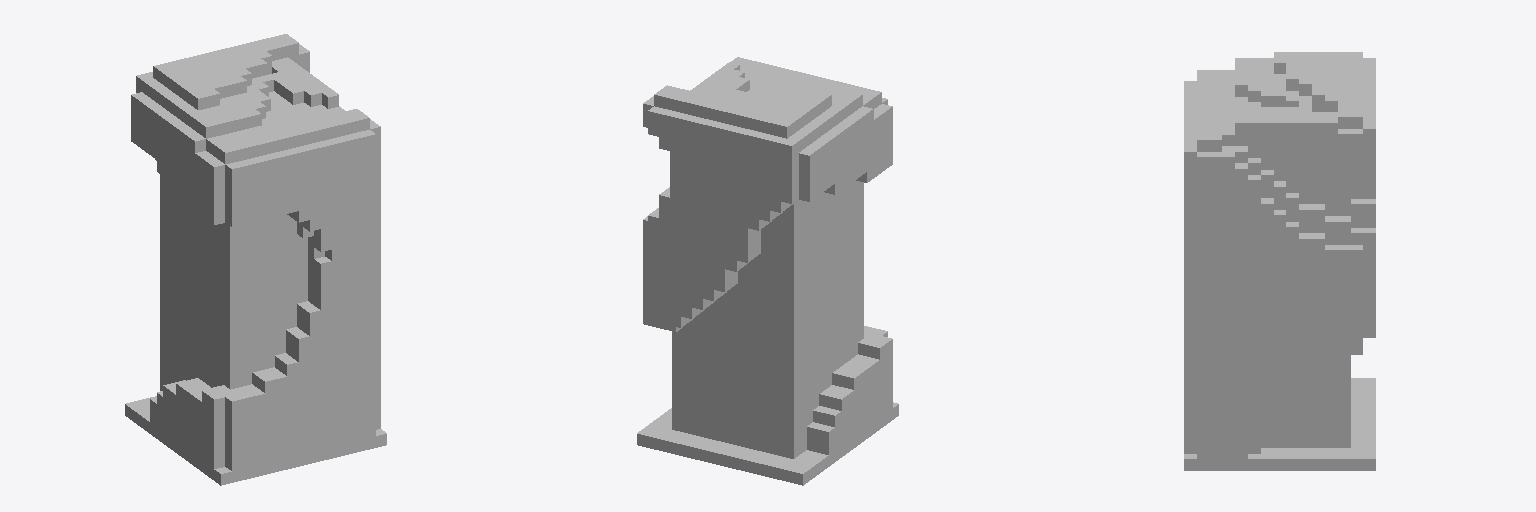
The model's file is Cave Wall test 5.obj.
3 views of the same model, side by side, from view 1: azimuth 30°, elevation 25°; view 2: azimuth 150°, elevation 25°; view 3: azimuth 270°, elevation 25° (orthographic).
Parts seen in each view (by area): view 1: object 1; view 2: object 1; view 3: object 1.
Part boxes in pixels (x1,y1,x2,y2): object 1: (125, 34, 386, 485); object 1: (637, 57, 898, 485); object 1: (1184, 52, 1375, 470).
Bounding box in the file's own units: 1.5 × 3 × 1.5.